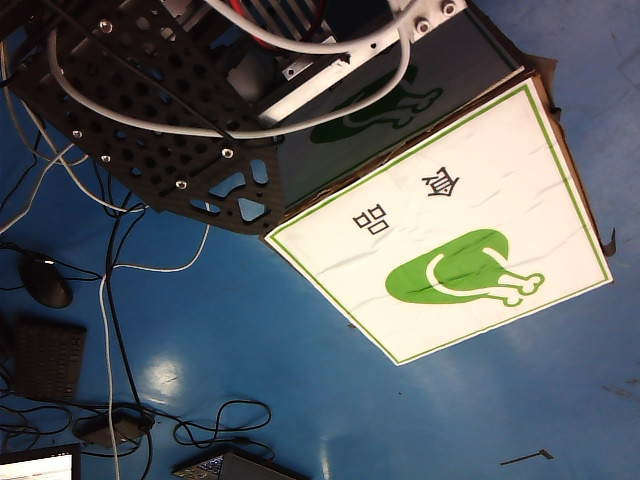Cube_food: (329, 159, 559, 314)
